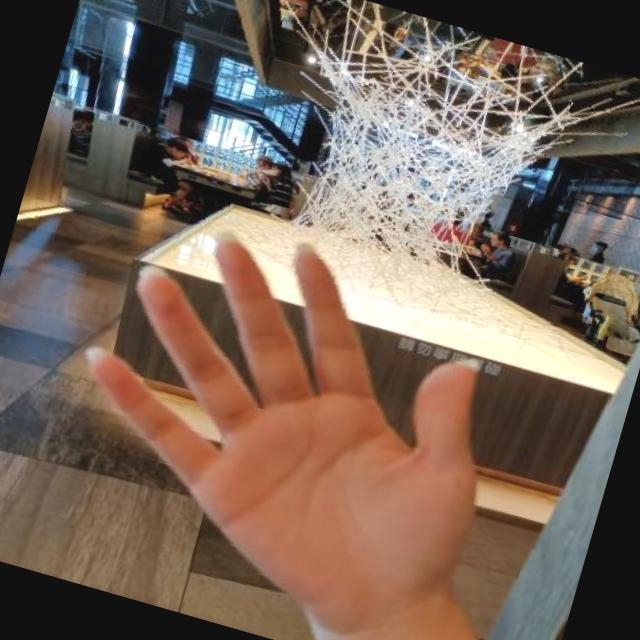hand: (0, 165, 585, 640)
